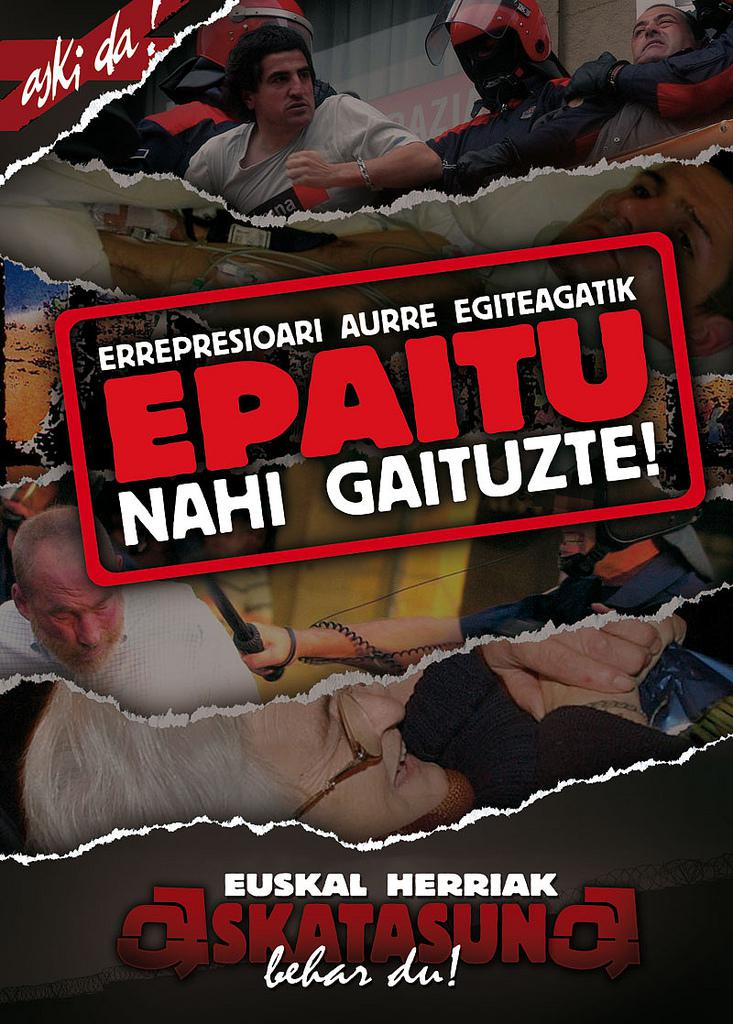Person: (0, 0, 732, 857)
